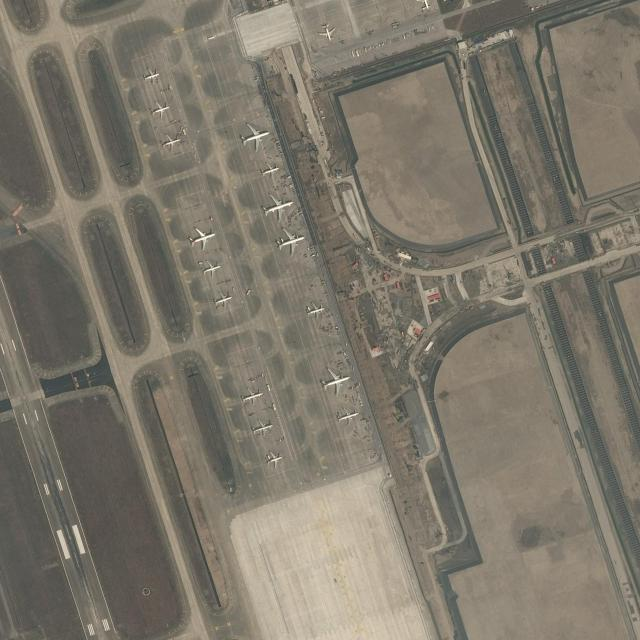1: (413, 0, 436, 13)
aircraft: (261, 194, 294, 222), (236, 123, 270, 148), (319, 366, 349, 393), (274, 228, 303, 254), (186, 226, 216, 249), (157, 129, 186, 151), (200, 258, 222, 278), (238, 386, 262, 404), (259, 451, 285, 467), (336, 407, 358, 425), (316, 23, 335, 43), (253, 419, 274, 437), (305, 303, 327, 320), (141, 67, 161, 85), (214, 292, 232, 308), (150, 102, 170, 116), (262, 162, 280, 176)
